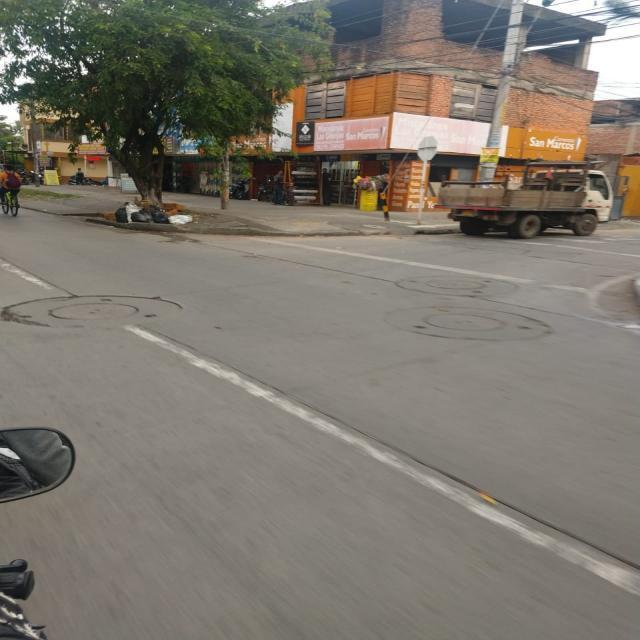Trashbag: (151, 210, 168, 226), (133, 211, 149, 224), (116, 209, 127, 223)
